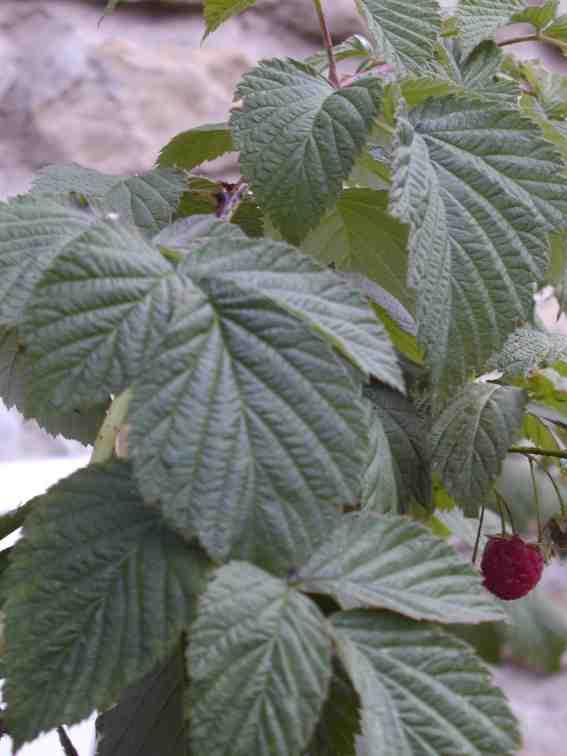Raspberry leaf: (122, 265, 365, 587), (395, 93, 562, 459), (318, 594, 528, 756), (228, 48, 391, 242), (180, 564, 331, 756), (301, 498, 515, 632)
